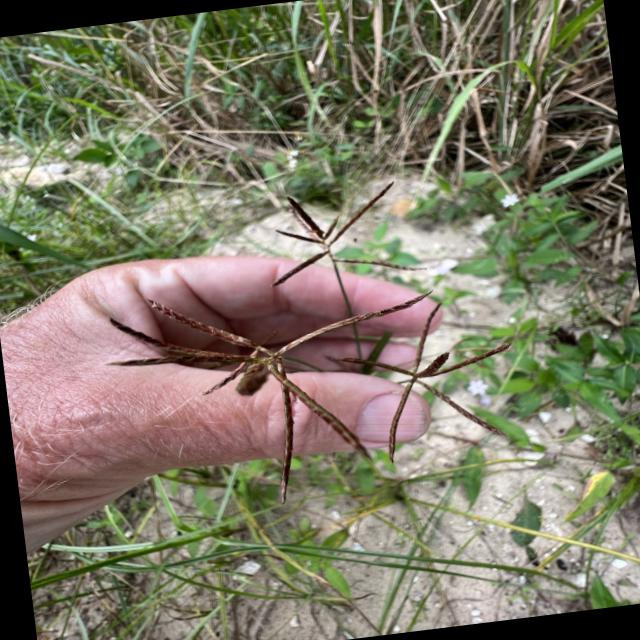cyperus: (96, 160, 513, 500)
